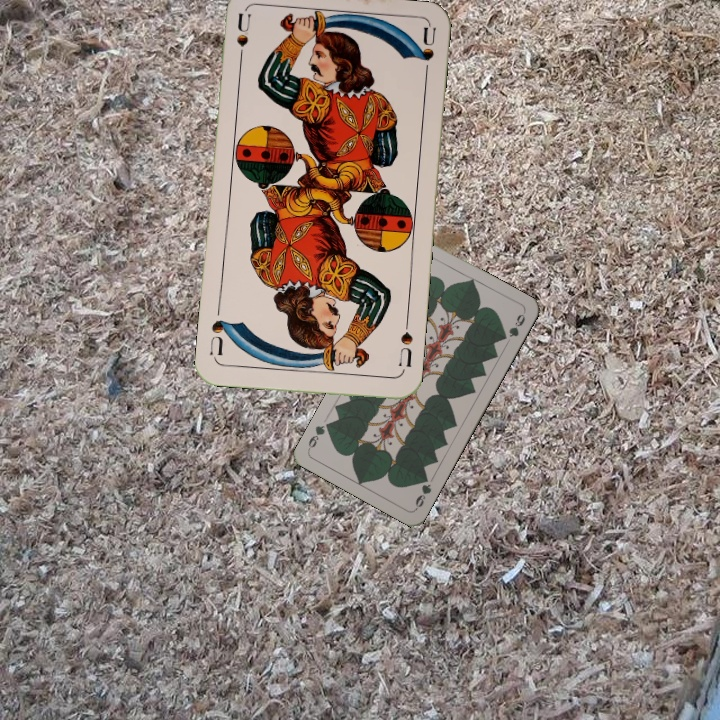G9: (411, 471, 434, 512)
SU: (233, 11, 254, 71), (395, 316, 415, 370)
